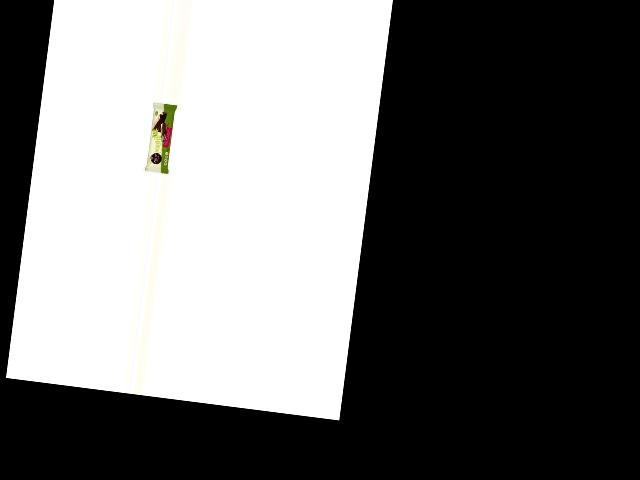chocolate: (142, 100, 180, 174)
